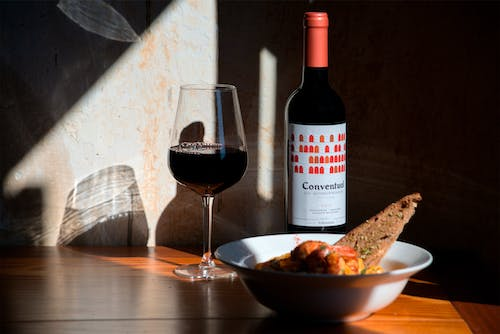alcohol: (166, 83, 249, 282), (284, 11, 348, 235)
